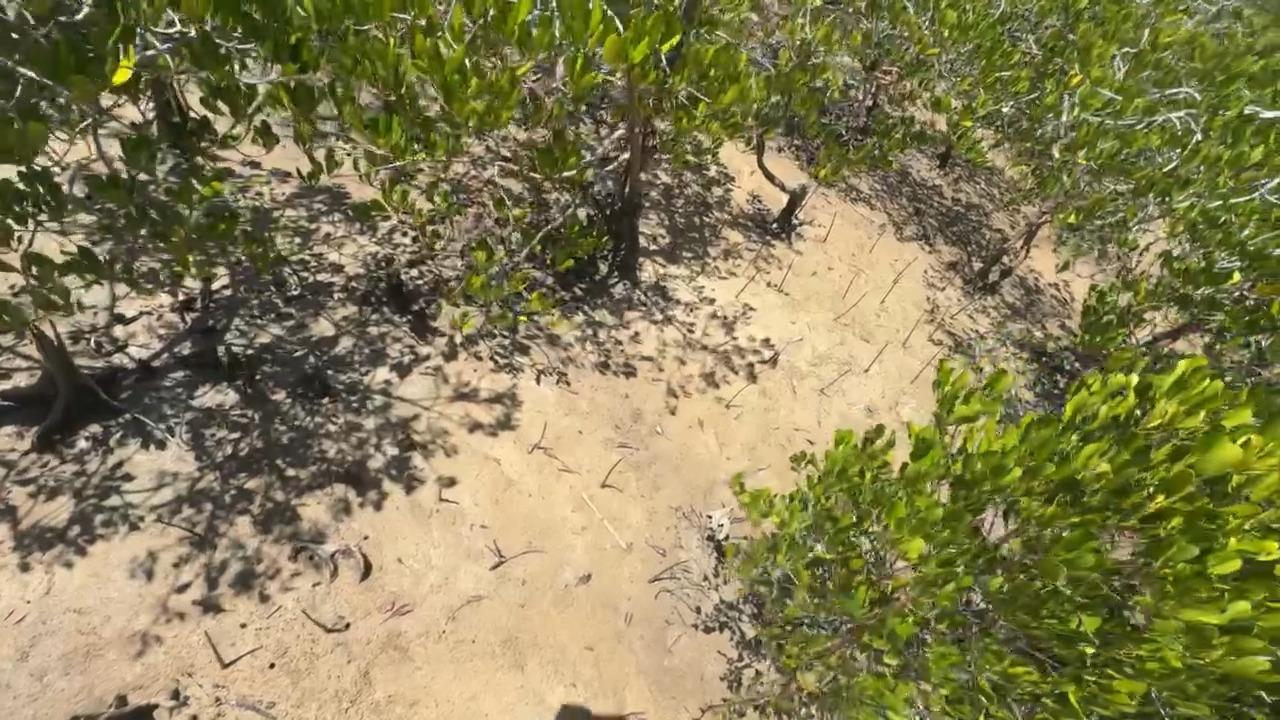Tree: (910, 342, 947, 385), (831, 290, 869, 321), (648, 560, 691, 584), (202, 629, 227, 670), (891, 255, 919, 288), (818, 368, 853, 392), (902, 311, 926, 346), (601, 456, 628, 487), (863, 342, 890, 373), (879, 273, 905, 305), (735, 268, 761, 299), (301, 608, 333, 632), (725, 383, 752, 410), (950, 297, 981, 318), (777, 257, 796, 290), (822, 210, 838, 243), (869, 229, 888, 253), (842, 273, 859, 299), (942, 270, 960, 292), (536, 421, 548, 448), (492, 538, 504, 559)
